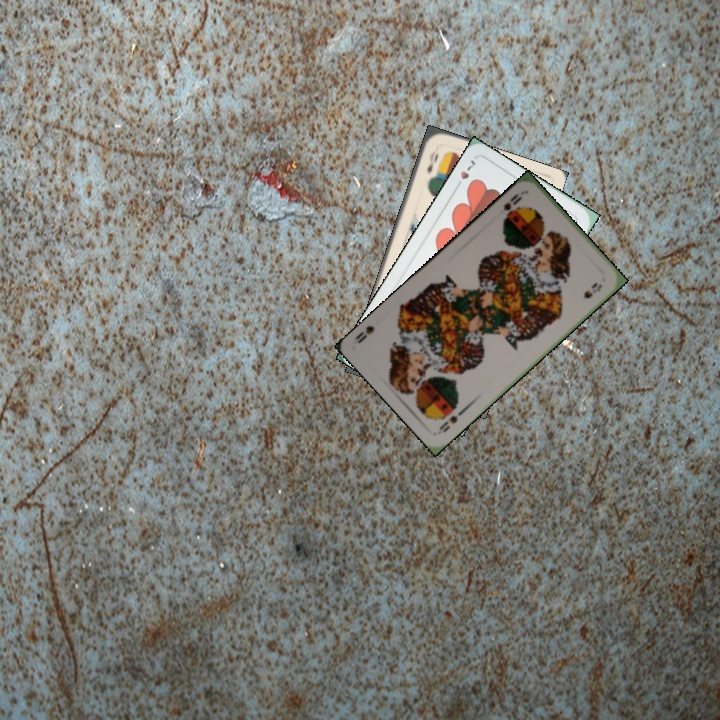EO: (423, 147, 441, 176)
H7: (451, 155, 478, 192)
SO: (435, 404, 468, 436), (499, 189, 525, 223)
